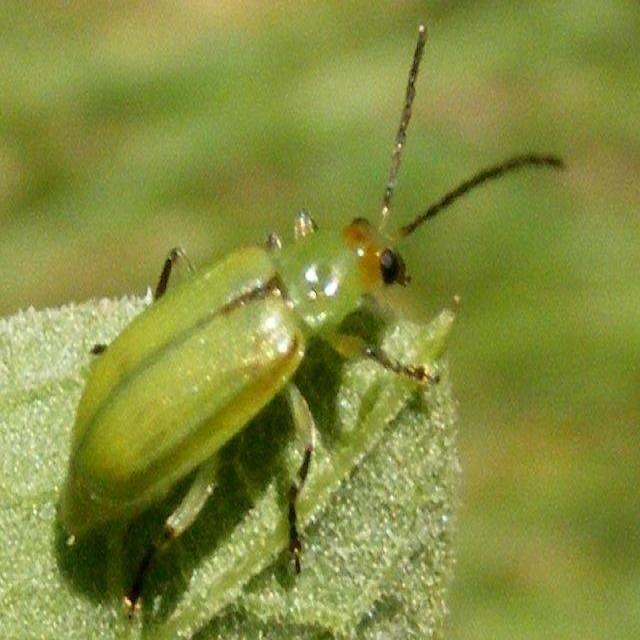gusano_gris: (63, 9, 561, 571)
